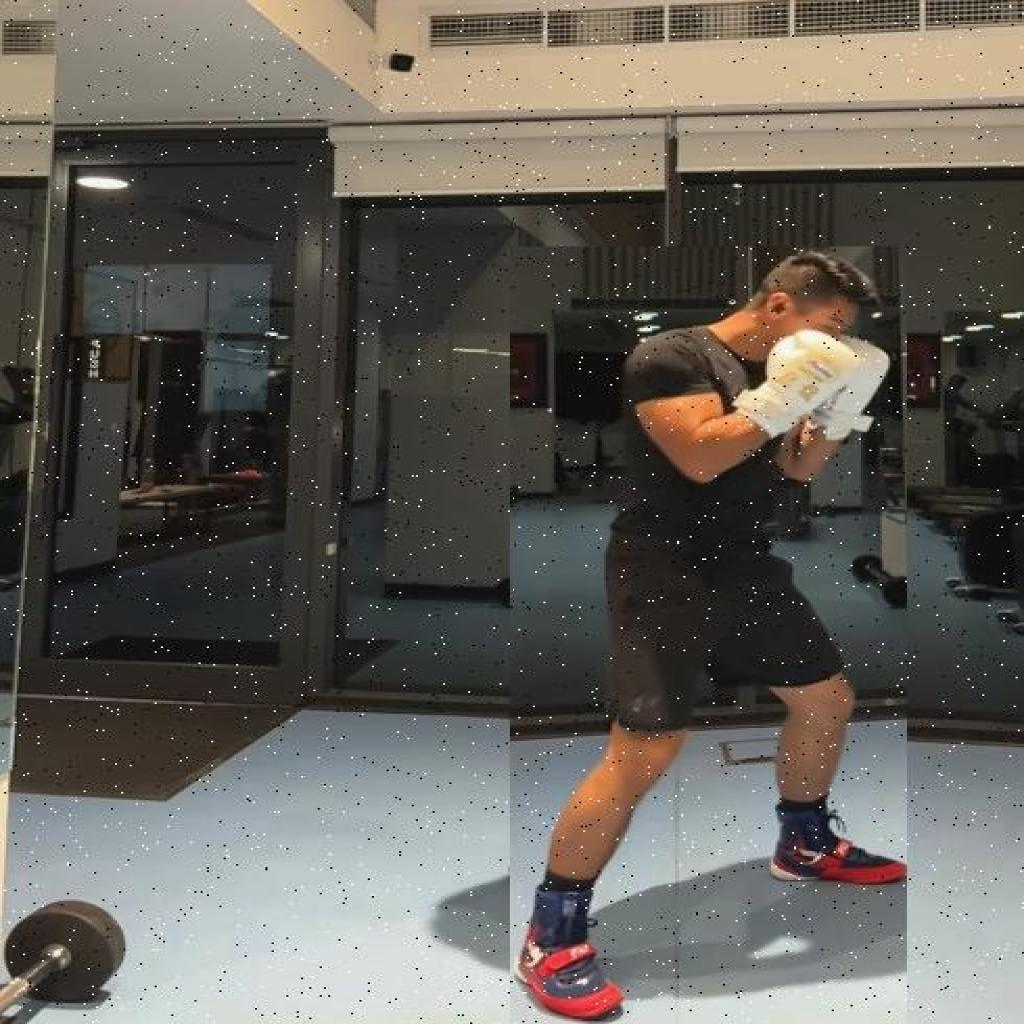no punch: (510, 246, 906, 1024)
